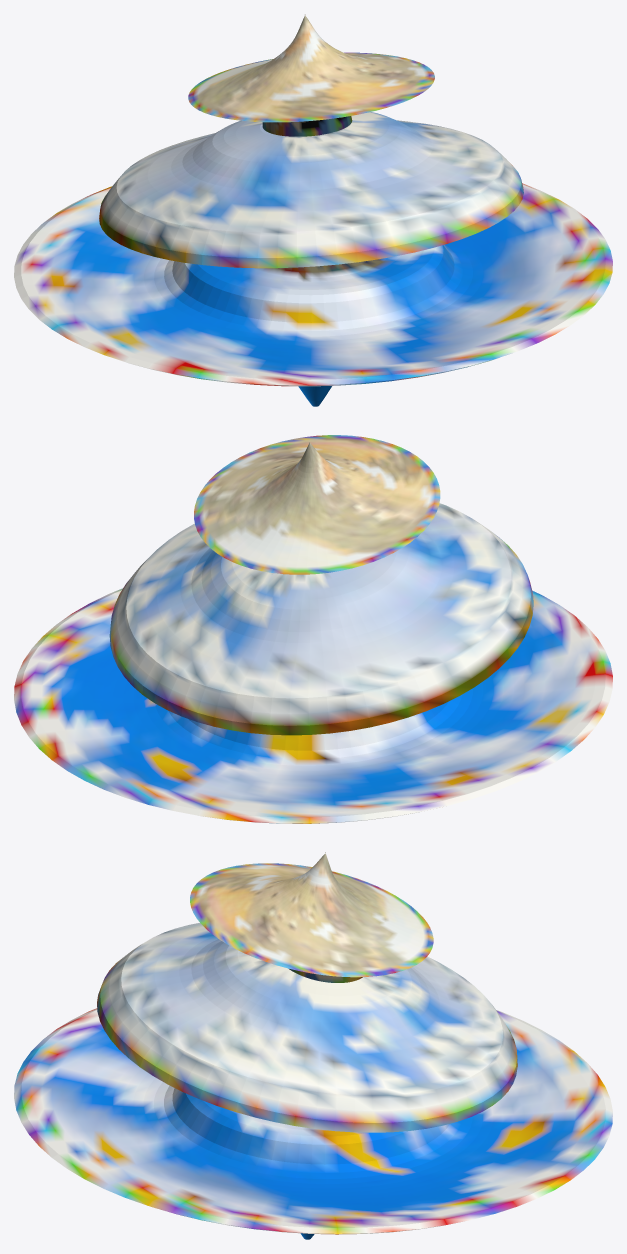
Rendered from april22pagodatest.glb.
3 renders of one model, top to bottom at view 1: azimuth 30°, elevation 25°; view 2: azimuth 150°, elevation 25°; view 3: azimuth 270°, elevation 25°, orthographic.
Parts seen in each view (by area): view 1: Lathe 4, Lathe 3, Lathe, Lathe.001; view 2: Lathe 4, Lathe 3, Lathe; view 3: Lathe 4, Lathe 3, Lathe.
Part boxes in pixels (left/top/right/bottom): Lathe 4: left=14, top=183, right=612, bottom=406; Lathe 3: left=99, top=112, right=523, bottom=268; Lathe: left=188, top=14, right=434, bottom=122; Lathe.001: left=262, top=116, right=352, bottom=136; Lathe 4: left=14, top=588, right=612, bottom=823; Lathe 3: left=109, top=503, right=533, bottom=735; Lathe: left=194, top=435, right=440, bottom=574; Lathe 4: left=14, top=1008, right=612, bottom=1239; Lathe 3: left=97, top=923, right=517, bottom=1132; Lathe: left=190, top=852, right=433, bottom=977.
Bounding box in the file's own units: 0.8569 × 0.6072 × 0.8557.
